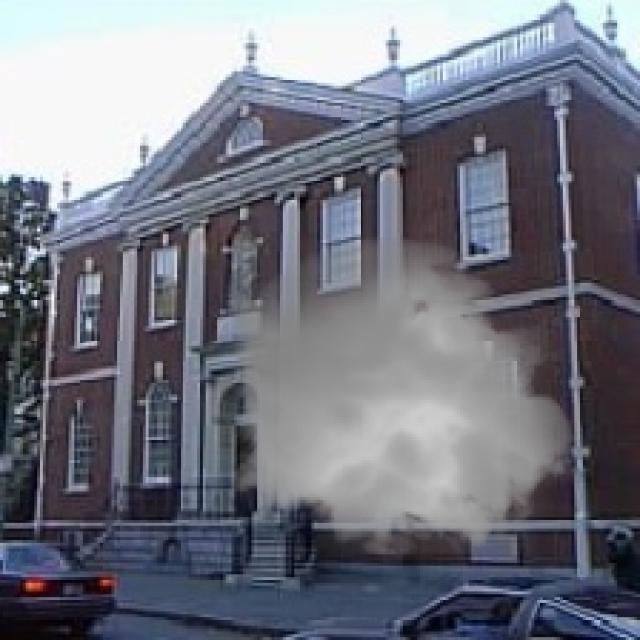smoke: (214, 226, 589, 568)
